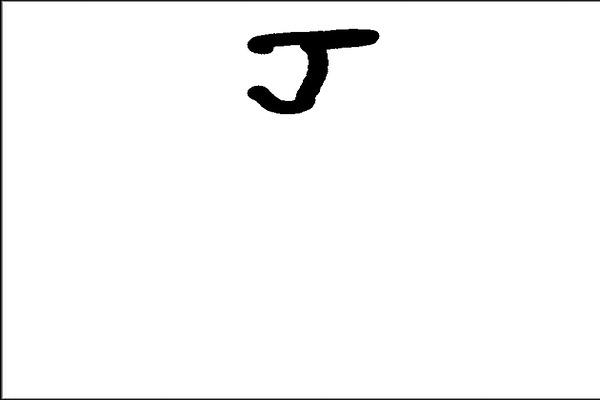J: (237, 23, 385, 119)
